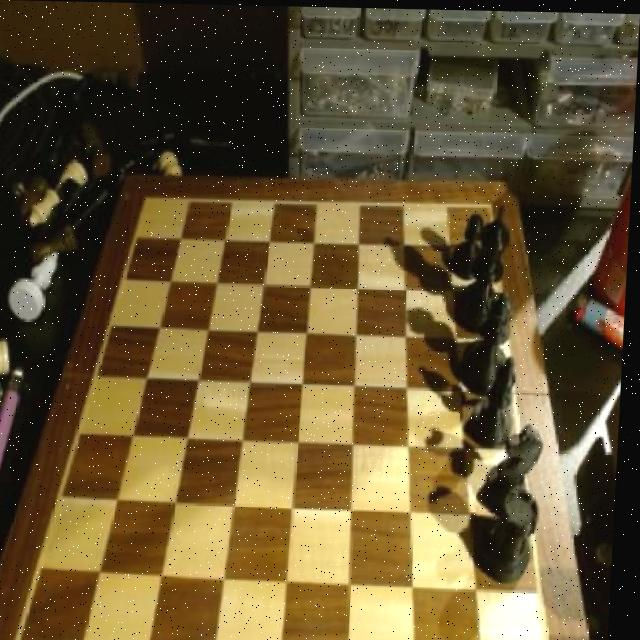bishop: (476, 349, 527, 451)
black-bishop: (465, 201, 516, 337)
black-king: (485, 421, 552, 518)
black-knight: (456, 213, 490, 282)
black-pawn: (464, 290, 518, 395)
black-queen: (486, 482, 547, 584)
